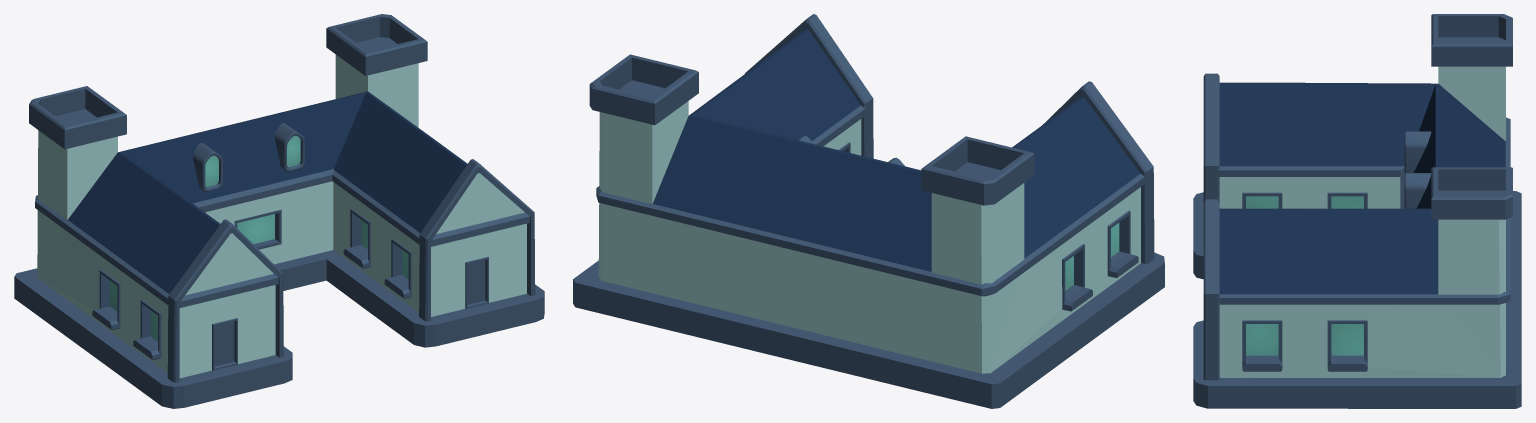
The model's file is SM_House_33.fbx.
3 renders of one model, left to right at view 1: azimuth 30°, elevation 25°; view 2: azimuth 150°, elevation 25°; view 3: azimuth 270°, elevation 25°, orthographic. The views are drawn at different scales.
Parts seen in each view (by area): view 1: SM_House_33; view 2: SM_House_33; view 3: SM_House_33.
Part boxes in pixels (x1,y1,x2,y2): SM_House_33: (14,14,544,408); SM_House_33: (573,14,1164,408); SM_House_33: (1193,14,1521,408).
Size of the model in its own units: 1686 by 831 by 1202.
